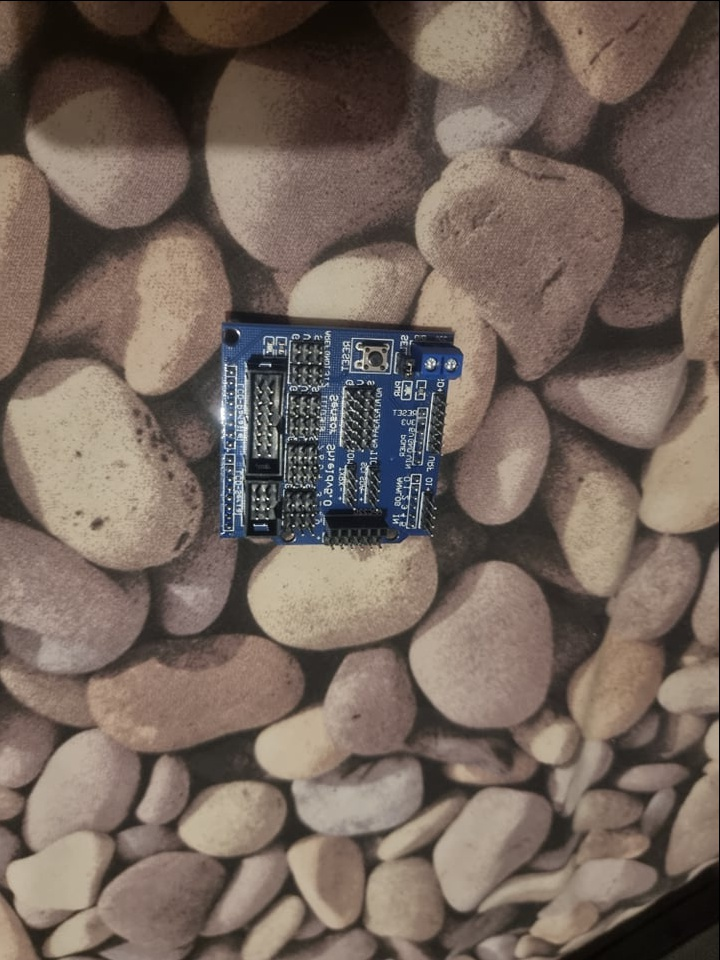5V EXPANSION: (220, 320, 467, 545)
